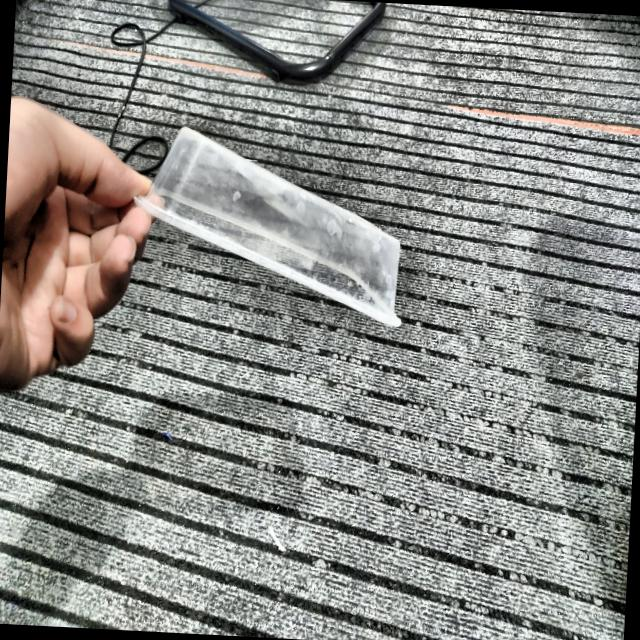plastic container: (136, 128, 401, 326)
